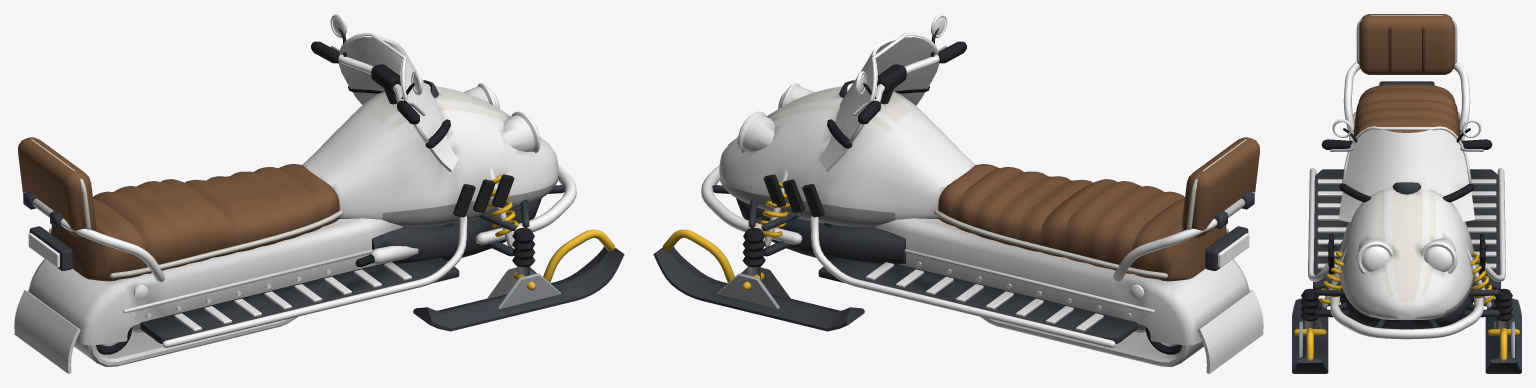
The model's file is snowmobile.glb.
3 renders of one model, left to right at view 1: azimuth 30°, elevation 25°; view 2: azimuth 150°, elevation 25°; view 3: azimuth 270°, elevation 25°, orthographic. The views are drawn at different scales.
Visible parts, largest first — view 1: mesh_body_paint, mesh_body_seat, mesh_body_trim, mesh_body_chrome, mesh_skiR_trim, mesh_body_rubber, mesh_body_glass, mesh_track_tread, mesh_steer_trim, mesh_body_lamp_red, mesh_steer_chrome; view 2: mesh_body_paint, mesh_body_seat, mesh_body_trim, mesh_body_chrome, mesh_skiL_trim, mesh_body_rubber, mesh_body_glass, mesh_track_tread, mesh_steer_trim, mesh_body_lamp_red, mesh_steer_chrome; view 3: mesh_body_trim, mesh_body_seat, mesh_body_paint, mesh_body_glass, mesh_body_chrome, mesh_skiL_trim, mesh_skiR_trim, mesh_body_rubber, mesh_steer_trim, mesh_body_glow.
Boxes of the visible parts, bbox=[...] form: mesh_body_paint: bbox=[28, 86, 558, 345]; mesh_body_seat: bbox=[18, 137, 343, 281]; mesh_body_trim: bbox=[23, 80, 565, 343]; mesh_body_chrome: bbox=[23, 32, 576, 347]; mesh_skiR_trim: bbox=[413, 227, 624, 331]; mesh_body_rubber: bbox=[14, 262, 411, 373]; mesh_body_glass: bbox=[339, 36, 458, 171]; mesh_track_tread: bbox=[74, 316, 297, 366]; mesh_steer_trim: bbox=[311, 14, 425, 124]; mesh_body_lamp_red: bbox=[28, 233, 147, 299]; mesh_steer_chrome: bbox=[332, 17, 418, 102]; mesh_body_paint: bbox=[719, 86, 1249, 345]; mesh_body_seat: bbox=[934, 137, 1259, 281]; mesh_body_trim: bbox=[712, 80, 1254, 343]; mesh_body_chrome: bbox=[701, 32, 1254, 347]; mesh_skiL_trim: bbox=[653, 227, 864, 331]; mesh_body_rubber: bbox=[866, 262, 1263, 373]; mesh_body_glass: bbox=[819, 36, 938, 171]; mesh_track_tread: bbox=[980, 316, 1203, 366]; mesh_steer_trim: bbox=[852, 14, 966, 124]; mesh_body_lamp_red: bbox=[1130, 233, 1249, 299]; mesh_steer_chrome: bbox=[859, 17, 945, 102]; mesh_body_trim: bbox=[1313, 81, 1500, 329]; mesh_body_seat: bbox=[1349, 14, 1464, 140]; mesh_body_paint: bbox=[1339, 190, 1474, 319]; mesh_body_glass: bbox=[1339, 129, 1474, 222]; mesh_body_chrome: bbox=[1308, 61, 1505, 339]; mesh_skiL_trim: bbox=[1485, 288, 1521, 373]; mesh_skiR_trim: bbox=[1292, 288, 1328, 373]; mesh_body_rubber: bbox=[1317, 179, 1496, 268]; mesh_steer_trim: bbox=[1321, 119, 1492, 151]; mesh_body_glow: bbox=[1361, 246, 1452, 271].
Bounding box in the file's own units: 2.71 × 1.2 × 1.25.
